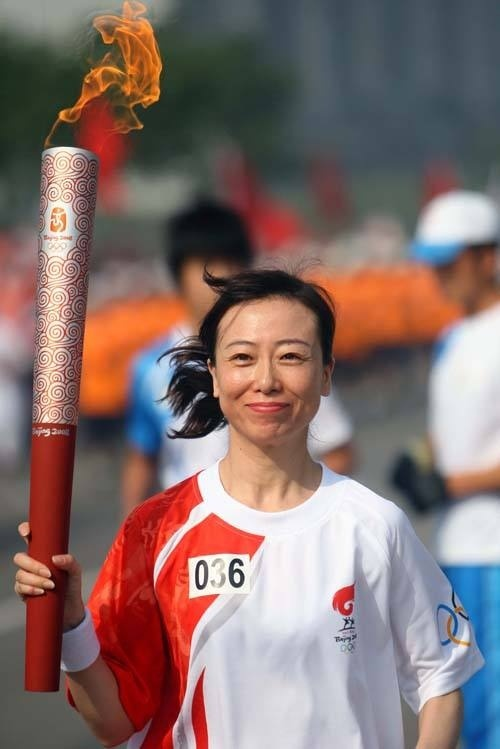fire: (52, 0, 166, 126)
